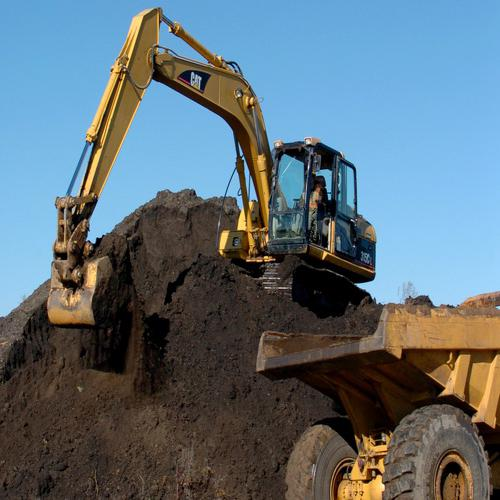con_eq: (53, 6, 378, 338), (252, 280, 500, 500)
